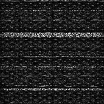lte: (1, 31, 104, 38), (1, 87, 104, 91)
